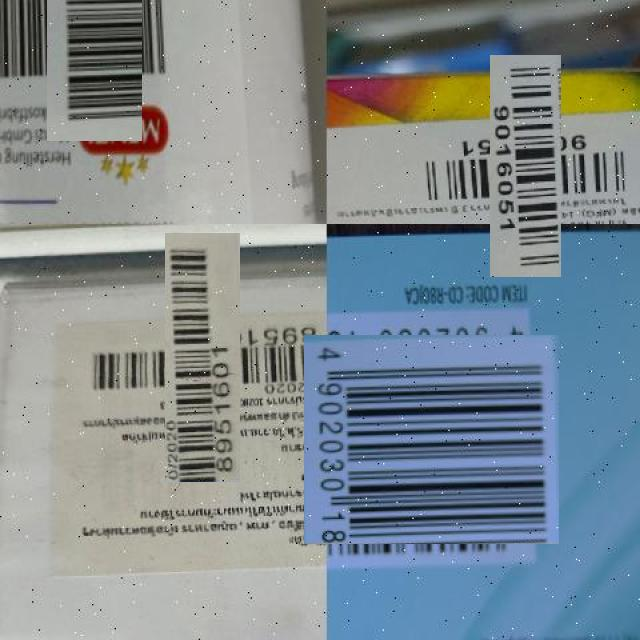Barcode: (315, 324, 548, 556), (121, 276, 283, 439), (453, 93, 599, 240), (24, 0, 165, 118)
